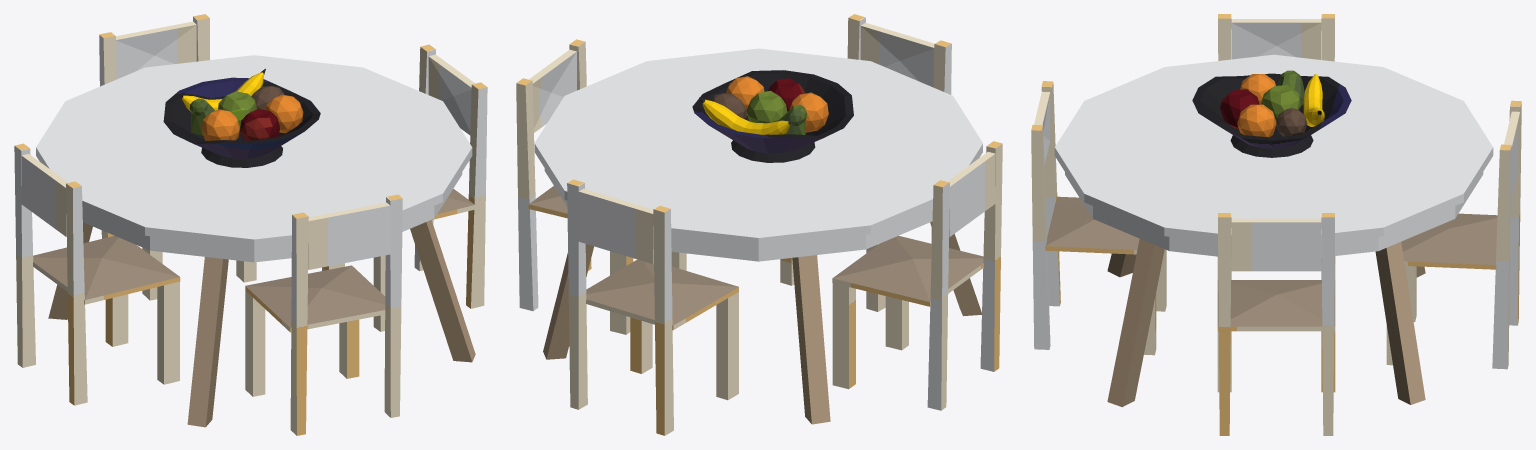
Rendered from Accesories_Dinner_Table_D.glb.
3 views of the same model, side by side, from view 1: azimuth 30°, elevation 25°; view 2: azimuth 150°, elevation 25°; view 3: azimuth 270°, elevation 25° (orthographic). The views are drawn at different scales.
Visible parts, largest first — view 1: Accesories_Dinner_Table_D; view 2: Accesories_Dinner_Table_D; view 3: Accesories_Dinner_Table_D.
Boxes of the visible parts, <box> form: Accesories_Dinner_Table_D: <box>14,14,487,435</box>; Accesories_Dinner_Table_D: <box>516,14,1002,435</box>; Accesories_Dinner_Table_D: <box>1031,14,1521,435</box>.
Size of the model in its own units: 1.53 by 0.8495 by 1.56.
Materials: 1 (1 with a texture image).
